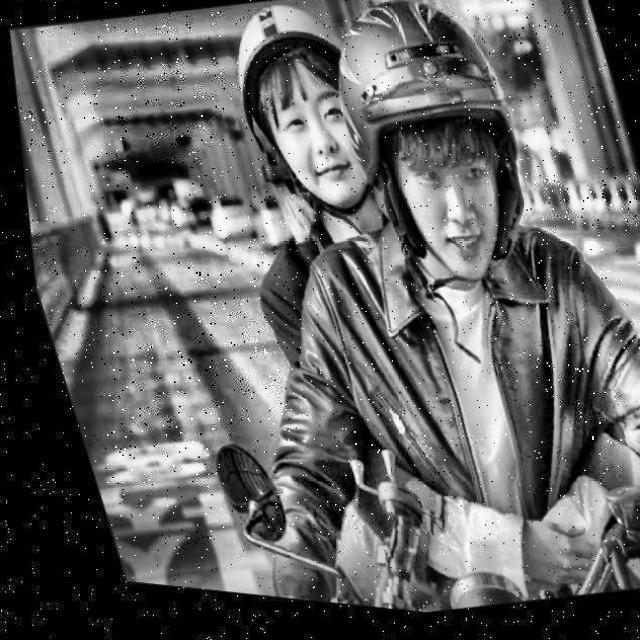Helmet: (309, 0, 563, 315), (206, 0, 402, 249)
